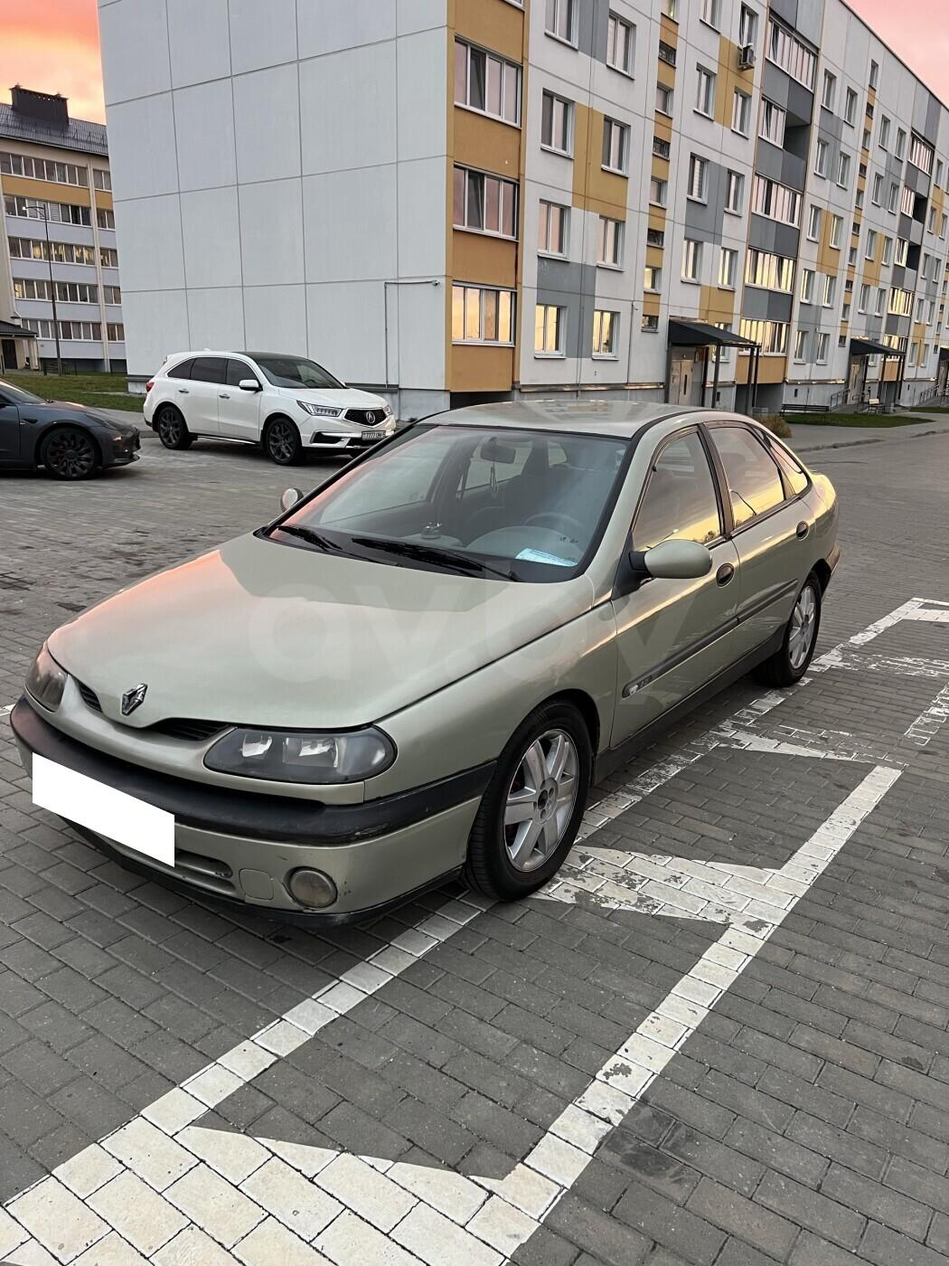Laguna_1998-2001: (11, 392, 842, 913)
